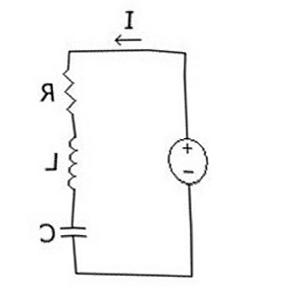Battery: (155, 130, 222, 194)
